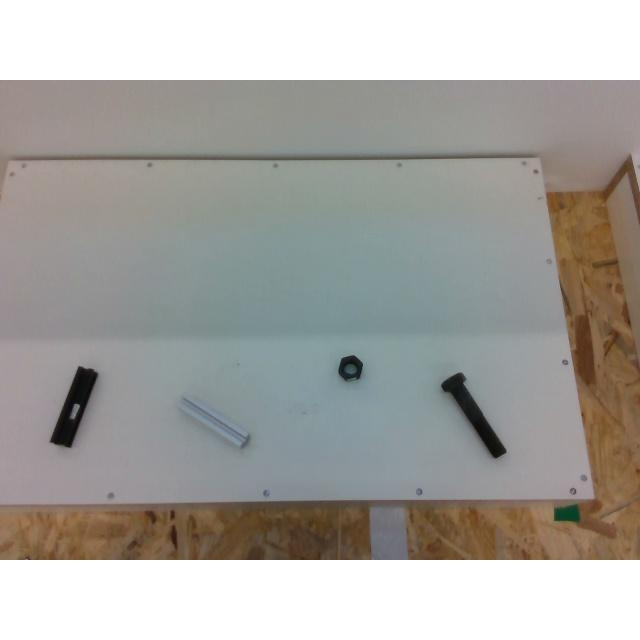F20_20_B: (51, 367, 98, 447)
F20_20_G: (176, 394, 248, 446)
M20: (338, 356, 362, 380)
M20_100: (441, 372, 505, 456)
